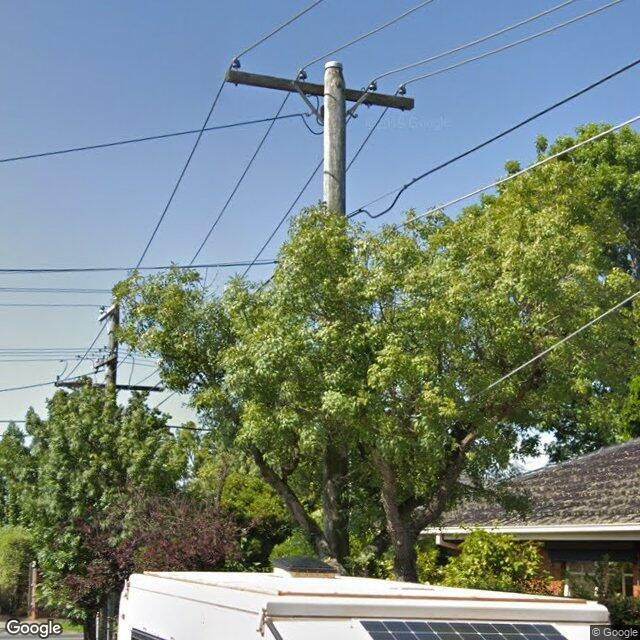HV-transmission: (98, 302, 118, 320)
crossarm: (225, 58, 414, 112), (54, 355, 164, 392), (93, 346, 118, 367), (99, 303, 117, 321)
timber-pole: (324, 63, 348, 578), (104, 300, 119, 407)
